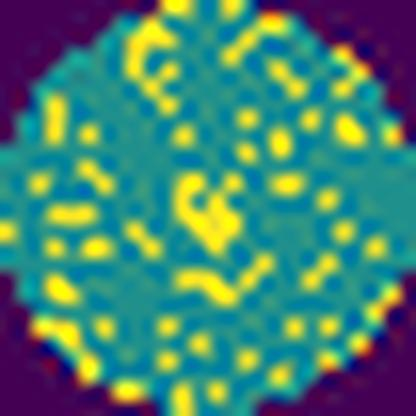Center: (172, 168, 252, 257)
